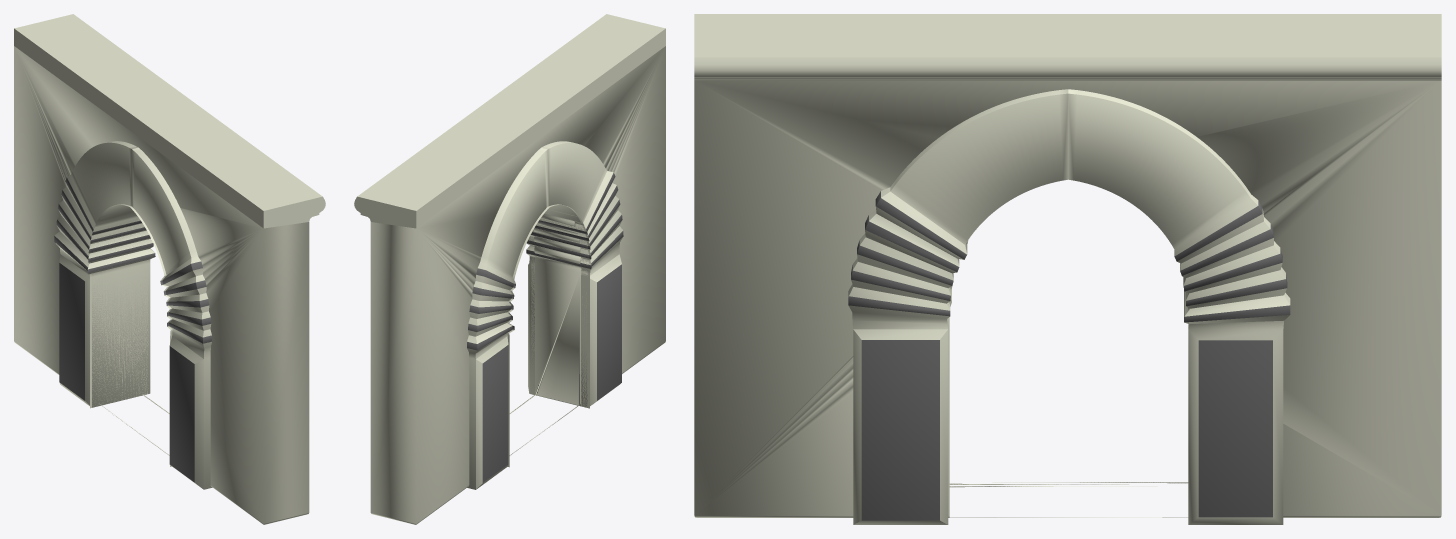
File: arch.glb
3 views of the same model, side by side, from view 1: azimuth 30°, elevation 25°; view 2: azimuth 150°, elevation 25°; view 3: azimuth 270°, elevation 25° (orthographic). The views are drawn at different scales.
Parts seen in each view (by area): view 1: pared, arco; view 2: pared, arco; view 3: pared, arco.
Part boxes in pixels (<box>): pared: <box>14,14,325,524</box>; arco: <box>54,141,212,489</box>; pared: <box>354,14,665,524</box>; arco: <box>467,141,623,489</box>; pared: <box>694,14,1441,517</box>; arco: <box>848,89,1290,524</box>.
Bounding box in the file's own units: 2.01 × 8.12 × 11.61.
